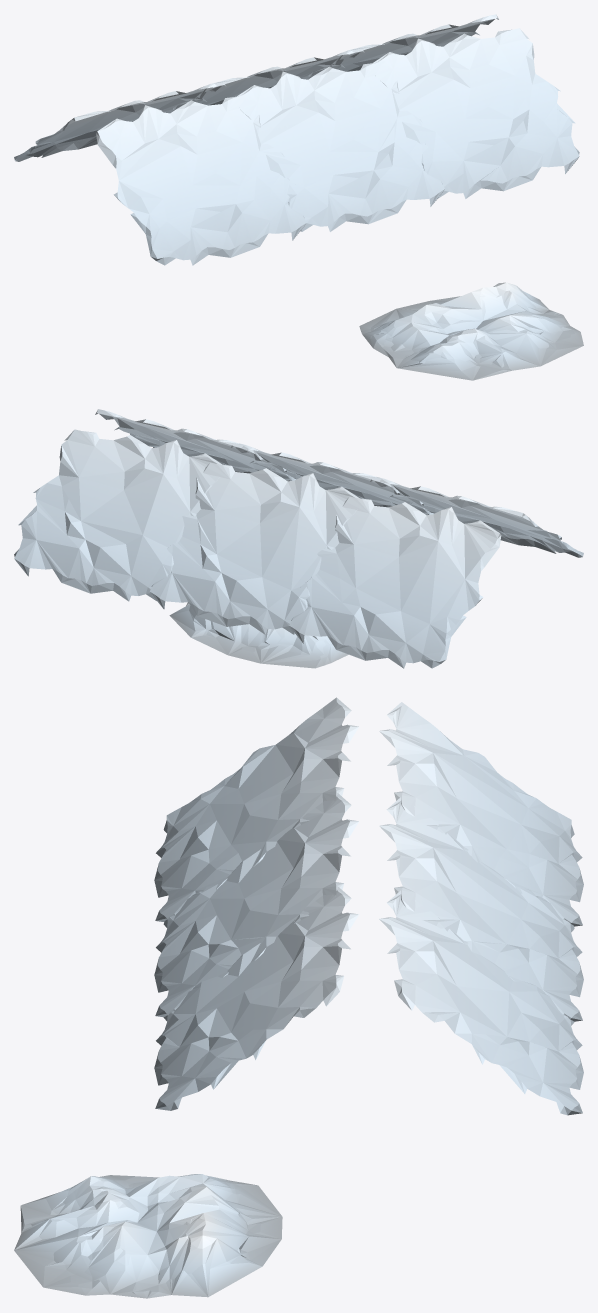
File: Snowy_House_Snow.FBX
3 renders of one model, top to bottom at view 1: azimuth 30°, elevation 25°; view 2: azimuth 150°, elevation 25°; view 3: azimuth 270°, elevation 25°, orthographic. The views are drawn at different scales.
Parts seen in each view (by area): view 1: Snowy_House_Snow; view 2: Snowy_House_Snow; view 3: Snowy_House_Snow.
Part boxes in pixels (x1,y1,x2,y2): Snowy_House_Snow: [14, 14, 583, 380]; Snowy_House_Snow: [14, 409, 583, 668]; Snowy_House_Snow: [14, 697, 583, 1298].
Size of the model in its own units: 798 by 408 by 628.
Materials: 1 (1 with a texture image).
